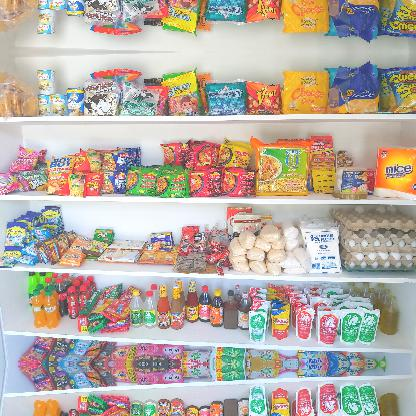Lady-s-Choice: (332, 166, 368, 200)
